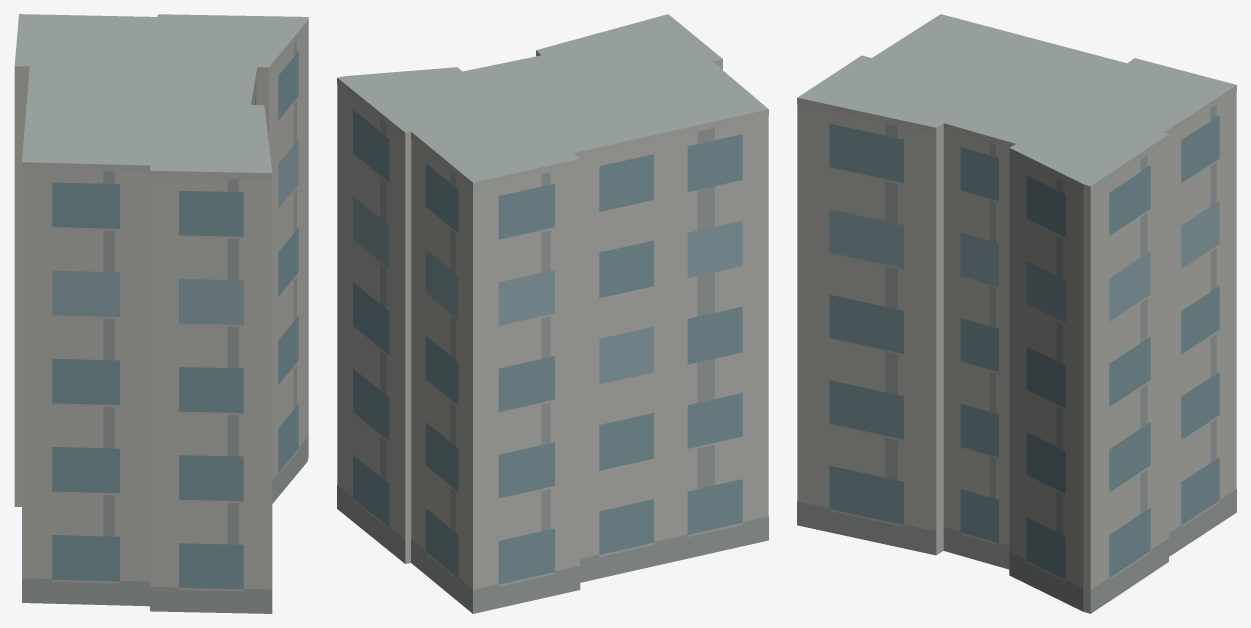
Rendered from survey-upis-32488959.glb.
3 views of the same model, side by side, from view 1: azimuth 30°, elevation 25°; view 2: azimuth 150°, elevation 25°; view 3: azimuth 270°, elevation 25° (orthographic). The views are drawn at different scales.
Parts seen in each view (by area): view 1: survey-upis-32488959.tmp; view 2: survey-upis-32488959.tmp; view 3: survey-upis-32488959.tmp.
Boxes of the visible parts, left/top/right/bottom form: survey-upis-32488959.tmp: left=14, top=14, right=308, bottom=613; survey-upis-32488959.tmp: left=337, top=14, right=768, bottom=613; survey-upis-32488959.tmp: left=797, top=14, right=1236, bottom=613.
Size of the model in its own units: 13.49 by 15.6 by 14.54.
